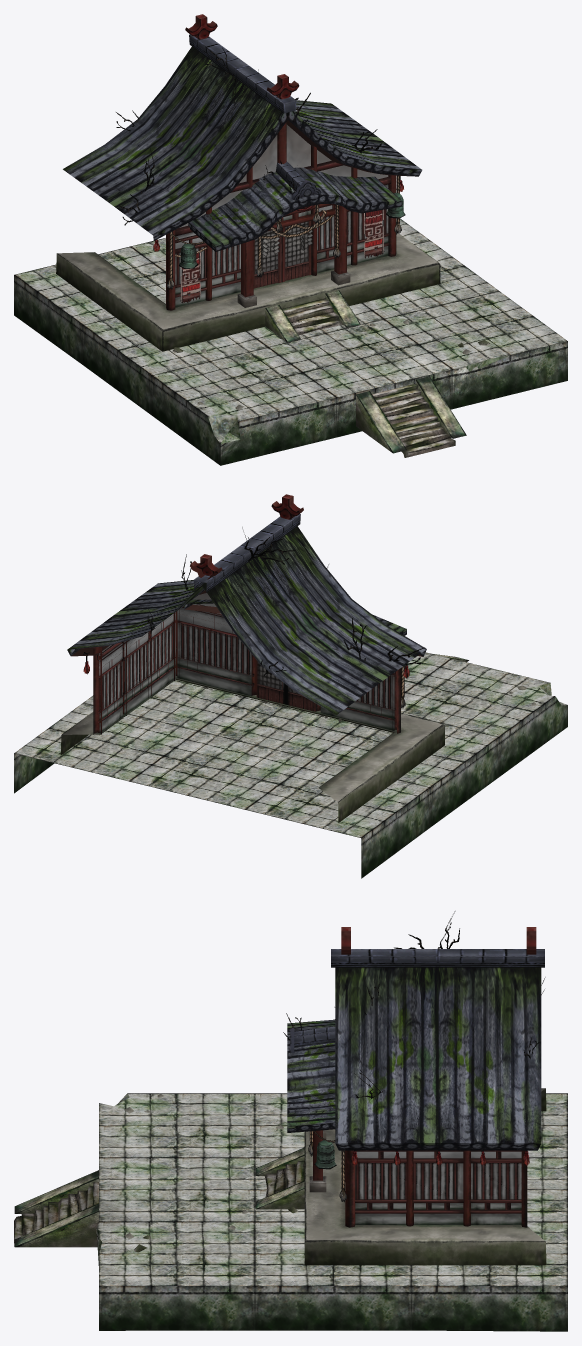
File: STG_AKAHome.FBX
The picture shows the model from 3 angles, top to bottom: view 1: azimuth 30°, elevation 25°; view 2: azimuth 150°, elevation 25°; view 3: azimuth 270°, elevation 25°; orthographic projection. The views are drawn at different scales.
Visible parts, largest first — view 1: STG_AKAHome; view 2: STG_AKAHome; view 3: STG_AKAHome.
Part boxes in pixels (x1=…): STG_AKAHome: x1=14, y1=14, x2=567, y2=465; STG_AKAHome: x1=14, y1=494, x2=567, y2=878; STG_AKAHome: x1=14, y1=911, x2=567, y2=1331.
Size of the model in its own units: 2207 by 1680 by 2684.
